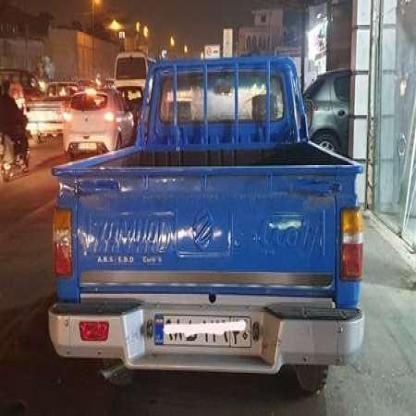Car: (52, 49, 355, 386), (298, 76, 372, 154), (59, 89, 128, 159), (28, 82, 90, 143), (116, 53, 154, 100)
